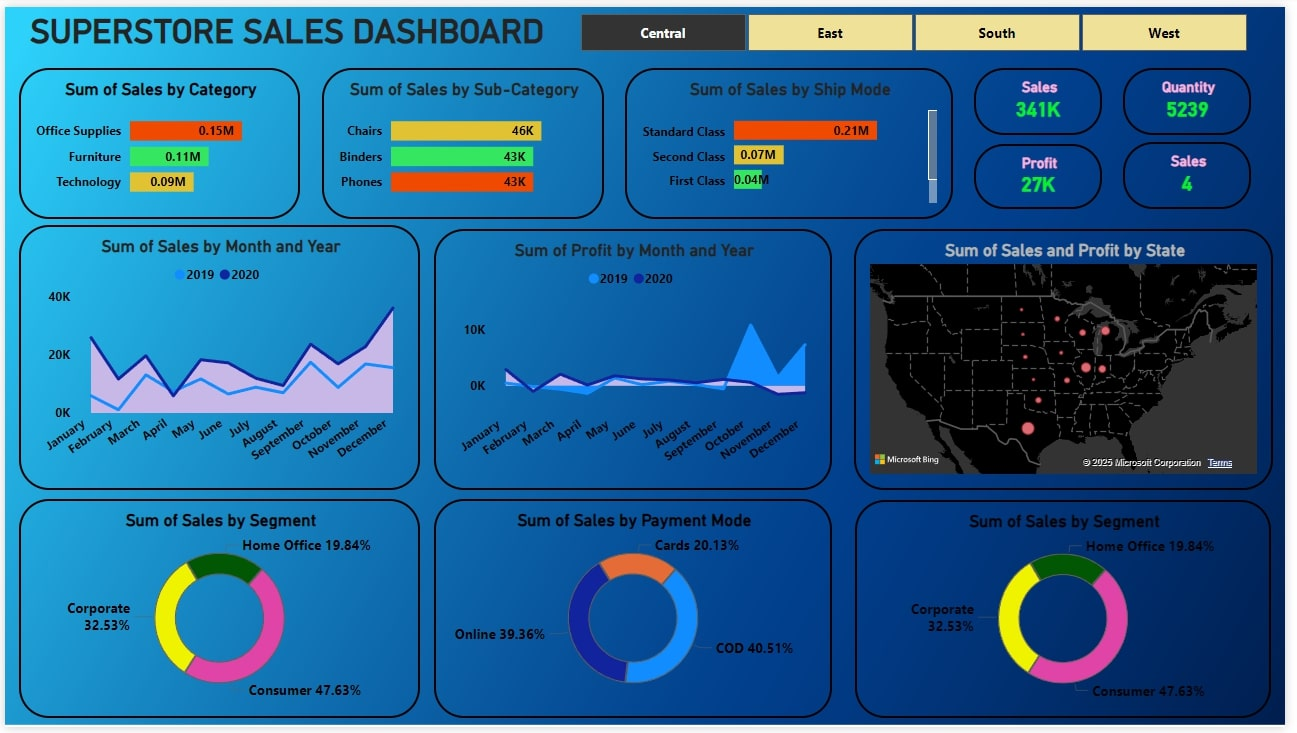

Layout of this report page (visuals, bound fields, positions):
{"tool":"powerbi","page":{"name":"Page 1","canvas":[1280,720],"ordinal":0},"visuals":[{"type":"clusteredBarChart","fields":{"Category":["SuperStore_Sales_Dataset.Category"],"Y":["Sum(SuperStore_Sales_Dataset.Sales)"]},"box":[14.1,61.5,281.2,150.2],"z":0},{"type":"clusteredBarChart","fields":{"Y":["Sum(SuperStore_Sales_Dataset.Sales)"],"Category":["SuperStore_Sales_Dataset.Sub-Category"]},"box":[317.5,61.5,281.2,150.2],"z":1000},{"type":"clusteredBarChart","fields":{"Y":["Sum(SuperStore_Sales_Dataset.Sales)"],"Category":["SuperStore_Sales_Dataset.Ship Mode"]},"box":[619.8,61.5,328.6,150.2],"z":2000},{"type":"areaChart","fields":{"Y":["Sum(SuperStore_Sales_Dataset.Sales)"],"Series":["SuperStore_Sales_Dataset.Order Date.Variation.Date Hierarchy.Year"],"Category":["SuperStore_Sales_Dataset.Order Date.Variation.Date Hierarchy.Month"]},"box":[13.9,218.4,400.7,264.8],"z":3000},{"type":"areaChart","fields":{"Series":["SuperStore_Sales_Dataset.Order Date.Variation.Date Hierarchy.Year"],"Y":["Sum(SuperStore_Sales_Dataset.Profit)"],"Category":["SuperStore_Sales_Dataset.Order Date.Variation.Date Hierarchy.Month","SuperStore_Sales_Dataset.Order Date.Variation.Date Hierarchy.Day"]},"box":[428.6,221.9,398.4,261.3],"z":4000},{"type":"map","title":"Sum of Sales and Profit by State","fields":{"Category":["SuperStore_Sales_Dataset.State"],"Size":["Sum(SuperStore_Sales_Dataset.Sales)"]},"box":[849.1,221.9,419.3,261.3],"z":5000},{"type":"donutChart","fields":{"Y":["Sum(SuperStore_Sales_Dataset.Sales)"],"Category":["SuperStore_Sales_Dataset.Segment"]},"box":[13.9,492.5,400.7,218.4],"z":6000},{"type":"donutChart","fields":{"Y":["Sum(SuperStore_Sales_Dataset.Sales)"],"Category":["SuperStore_Sales_Dataset.Payment Mode"]},"box":[428.6,492.5,398.4,218.4],"z":7000},{"type":"donutChart","fields":{"Y":["Sum(SuperStore_Sales_Dataset.Sales)"],"Category":["SuperStore_Sales_Dataset.Segment"]},"box":[849.6,492.9,416.3,217.7],"z":8000},{"type":"slicer","fields":{"Values":["SuperStore_Sales_Dataset.Region"]},"box":[550.3,0,715.6,51.4],"z":8001},{"type":"textbox","box":[14.1,0,537.2,51.4],"z":8002},{"type":"card","title":"Sales","fields":{"Values":["Sum(SuperStore_Sales_Dataset.Sales)"]},"box":[968.6,61.5,128,66.5],"z":8003},{"type":"card","title":"Quantity","fields":{"Values":["Sum(SuperStore_Sales_Dataset.Quantity)"]},"box":[1117.7,61.5,128,66.5],"z":8004},{"type":"card","title":"Profit","fields":{"Values":["Sum(SuperStore_Sales_Dataset.Profit)"]},"box":[968.6,137.1,128,64.5],"z":8005},{"type":"card","title":"Sales","fields":{"Values":["Avg(SuperStore_Sales_Dataset.AverageDelhivery)"]},"box":[1117.7,135.1,128,66.5],"z":8006}]}

Visuals, with their boxes in screenshot pixels (x1, y1, x2, y2), scaled from the page's 1280x720 canvas onto the 1297x733 screenshot:
clusteredBarChart - SuperStore_Sales_Dataset.Category x Sum(SuperStore_Sales_Dataset.Sales): rect(14, 63, 299, 216)
clusteredBarChart - Sum(SuperStore_Sales_Dataset.Sales) x SuperStore_Sales_Dataset.Sub-Category: rect(322, 63, 607, 216)
clusteredBarChart - Sum(SuperStore_Sales_Dataset.Sales) x SuperStore_Sales_Dataset.Ship Mode: rect(628, 63, 961, 216)
areaChart - Sum(SuperStore_Sales_Dataset.Sales) x SuperStore_Sales_Dataset.Order Date.Variation.Date Hierarchy.Year: rect(14, 222, 420, 492)
areaChart - SuperStore_Sales_Dataset.Order Date.Variation.Date Hierarchy.Year x Sum(SuperStore_Sales_Dataset.Profit): rect(434, 226, 838, 492)
"Sum of Sales and Profit by State" map: rect(860, 226, 1285, 492)
donutChart - Sum(SuperStore_Sales_Dataset.Sales) x SuperStore_Sales_Dataset.Segment: rect(14, 501, 420, 724)
donutChart - Sum(SuperStore_Sales_Dataset.Sales) x SuperStore_Sales_Dataset.Payment Mode: rect(434, 501, 838, 724)
donutChart - Sum(SuperStore_Sales_Dataset.Sales) x SuperStore_Sales_Dataset.Segment: rect(861, 502, 1283, 723)
slicer - SuperStore_Sales_Dataset.Region: rect(558, 0, 1283, 52)
textbox: rect(14, 0, 559, 52)
"Sales" card: rect(981, 63, 1111, 130)
"Quantity" card: rect(1133, 63, 1262, 130)
"Profit" card: rect(981, 140, 1111, 205)
"Sales" card: rect(1133, 138, 1262, 205)
